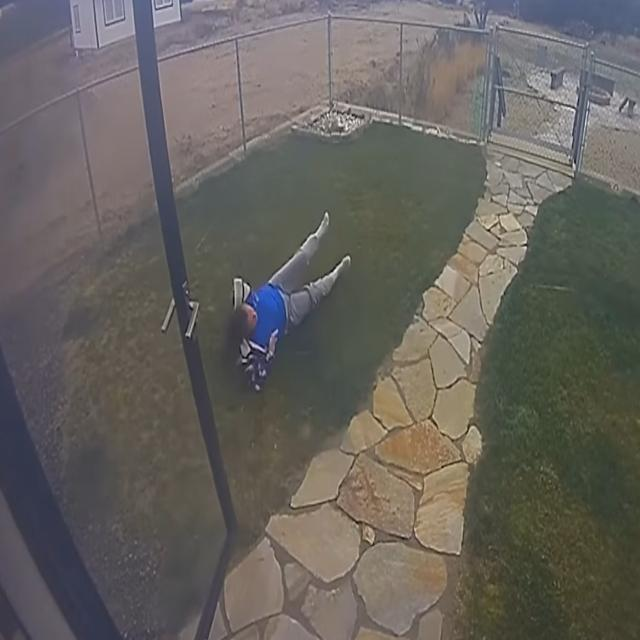fallen: (229, 212, 351, 391)
